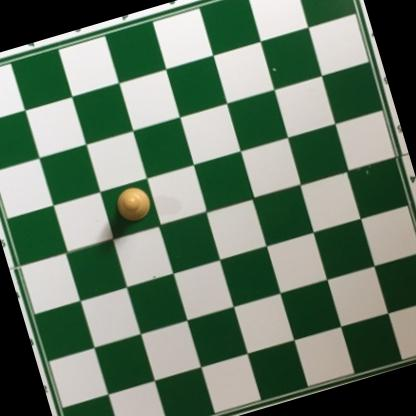white-pawn: (111, 182, 156, 229)
